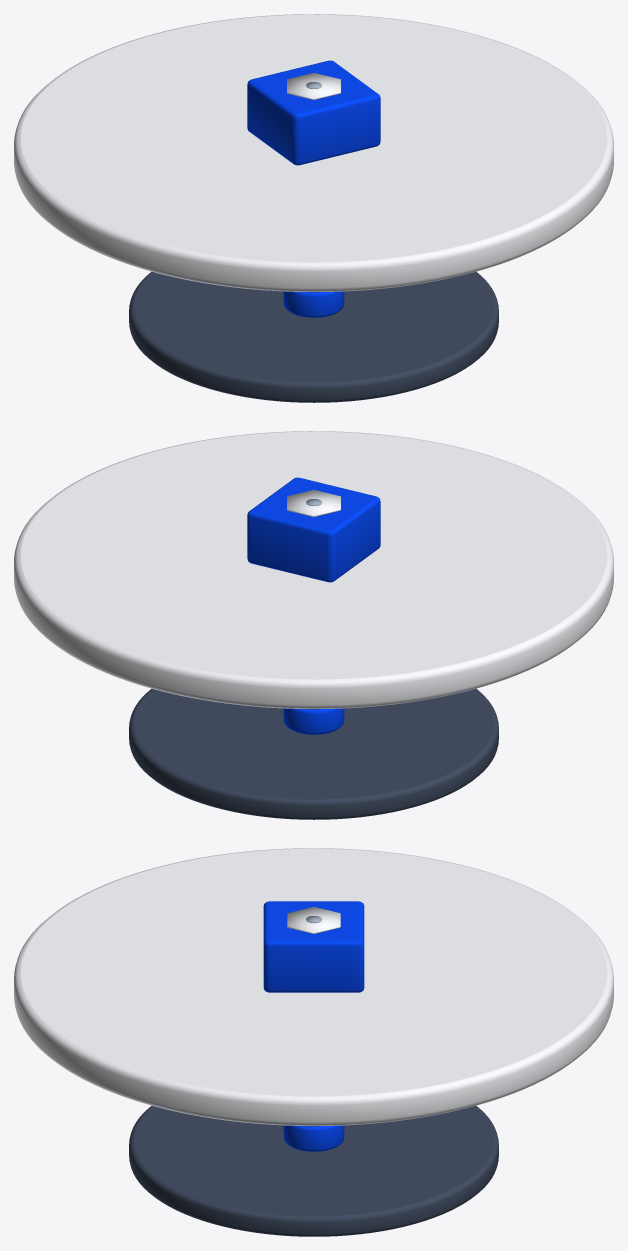
Rendered from 14-nodeworks-round-table.glb.
3 renders of one model, top to bottom at view 1: azimuth 30°, elevation 25°; view 2: azimuth 150°, elevation 25°; view 3: azimuth 270°, elevation 25°, orthographic.
Parts seen in each view (by area): view 1: white_circular_tabletop, dark_round_pedestal_base, blue_tabletop_cube, blue_lower_support_collar, cube_white_hexagonal_emblem; view 2: white_circular_tabletop, dark_round_pedestal_base, blue_tabletop_cube, blue_lower_support_collar, cube_white_hexagonal_emblem; view 3: white_circular_tabletop, dark_round_pedestal_base, blue_tabletop_cube, blue_lower_support_collar, cube_white_hexagonal_emblem.
Part boxes in pixels (x1,y1,x2,y2): white_circular_tabletop: (14, 14, 613, 291); dark_round_pedestal_base: (129, 271, 498, 402); blue_tabletop_cube: (247, 60, 380, 165); blue_lower_support_collar: (283, 291, 344, 317); cube_white_hexagonal_emblem: (287, 73, 340, 99); white_circular_tabletop: (14, 431, 613, 708); dark_round_pedestal_base: (129, 688, 498, 819); blue_tabletop_cube: (247, 477, 380, 582); blue_lower_support_collar: (283, 708, 344, 734); cube_white_hexagonal_emblem: (287, 490, 340, 516); white_circular_tabletop: (14, 848, 613, 1125); dark_round_pedestal_base: (129, 1106, 498, 1236); blue_tabletop_cube: (263, 901, 364, 992); blue_lower_support_collar: (283, 1125, 344, 1151); cube_white_hexagonal_emblem: (287, 907, 340, 933).
Bounding box in the file's own units: 1.22 × 0.55 × 1.22.
